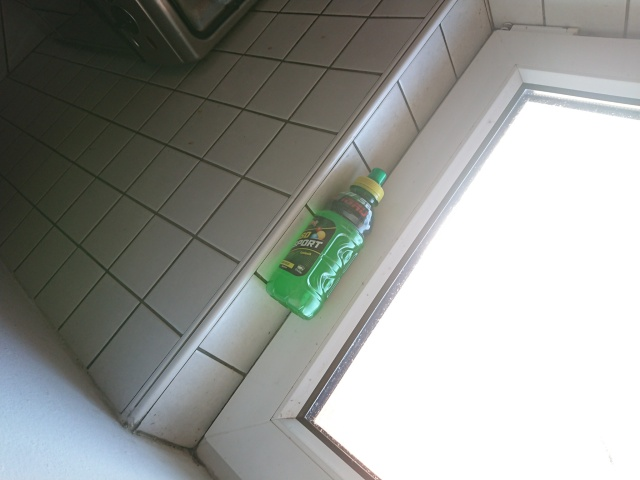Vindi Iso Sport Lemon-Grapefruit 500mL: (262, 165, 390, 323)
